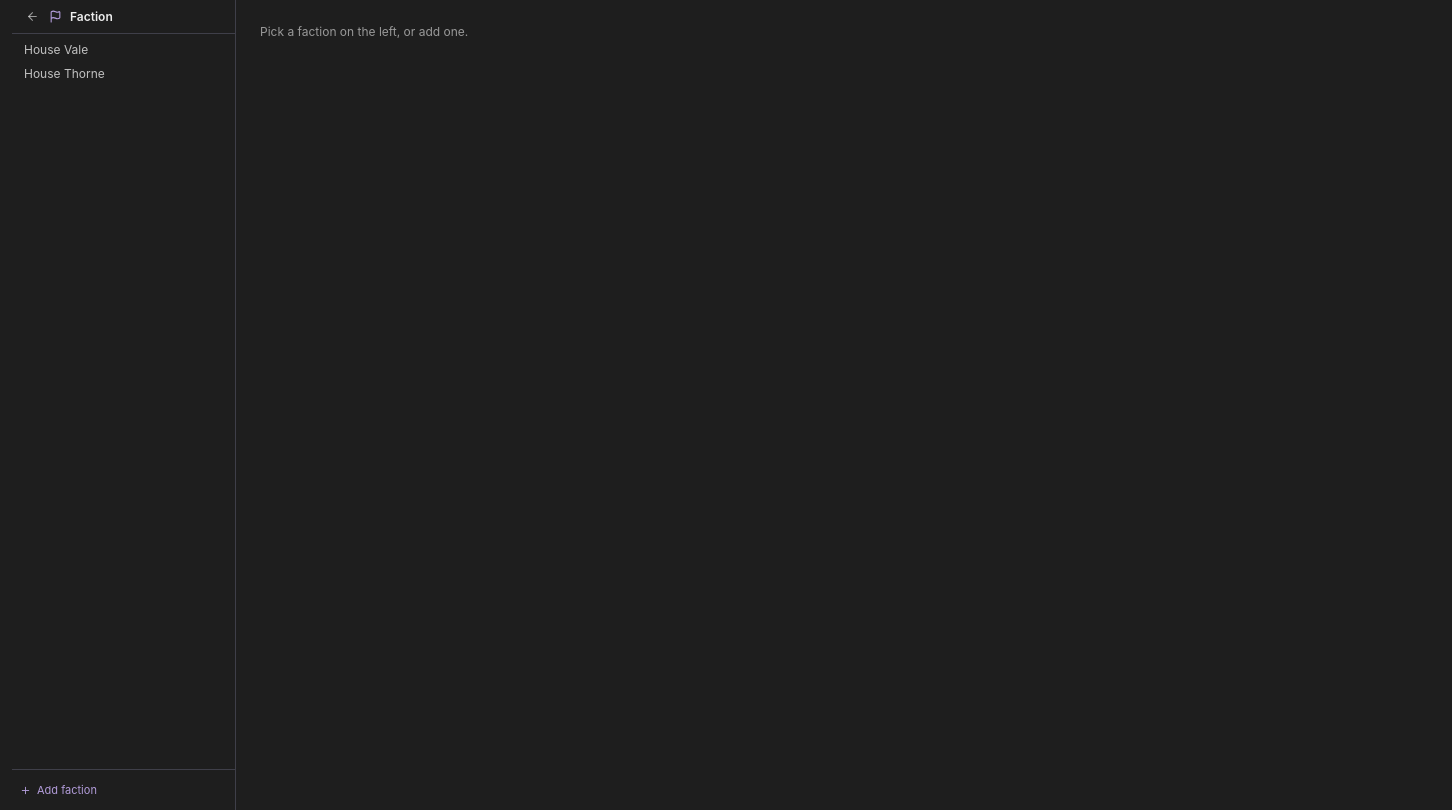
saved means saved › says out loud that there are unsaved changes
The image size is (1452, 810).
Expected: the element with test id "thread-editor" is shown, x1=12 y1=0 x2=468 y2=809
Click the button "House Vale".
click(124, 50)  # box x1=12 y1=38 x2=235 y2=62
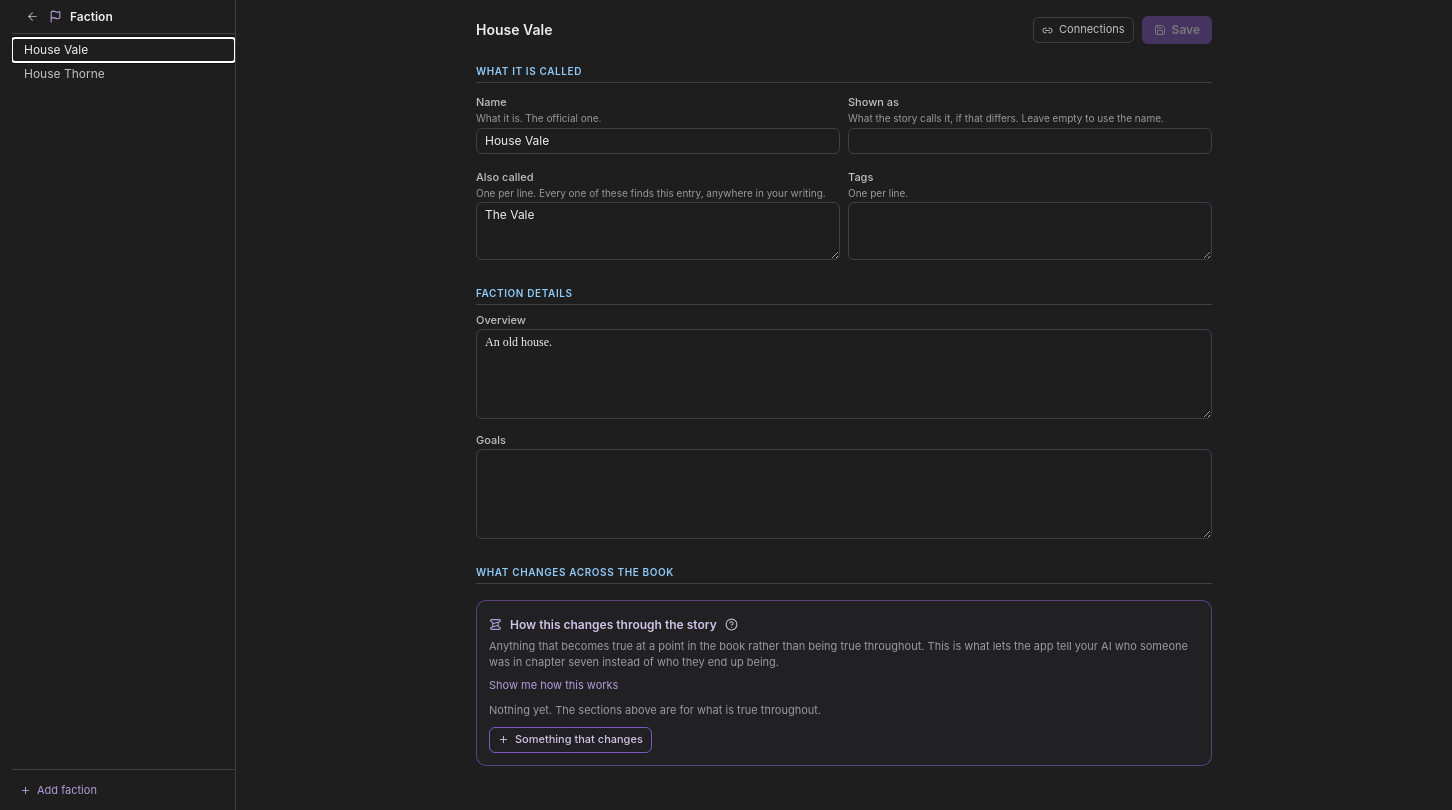
Expected: the field labelled "Name" is shown, x1=476 y1=128 x2=840 y2=154
Type "Hold the pass." into the text box labelled "Goals".
click(844, 494); type("Hold the pass.")  # box x1=476 y1=449 x2=1212 y2=539
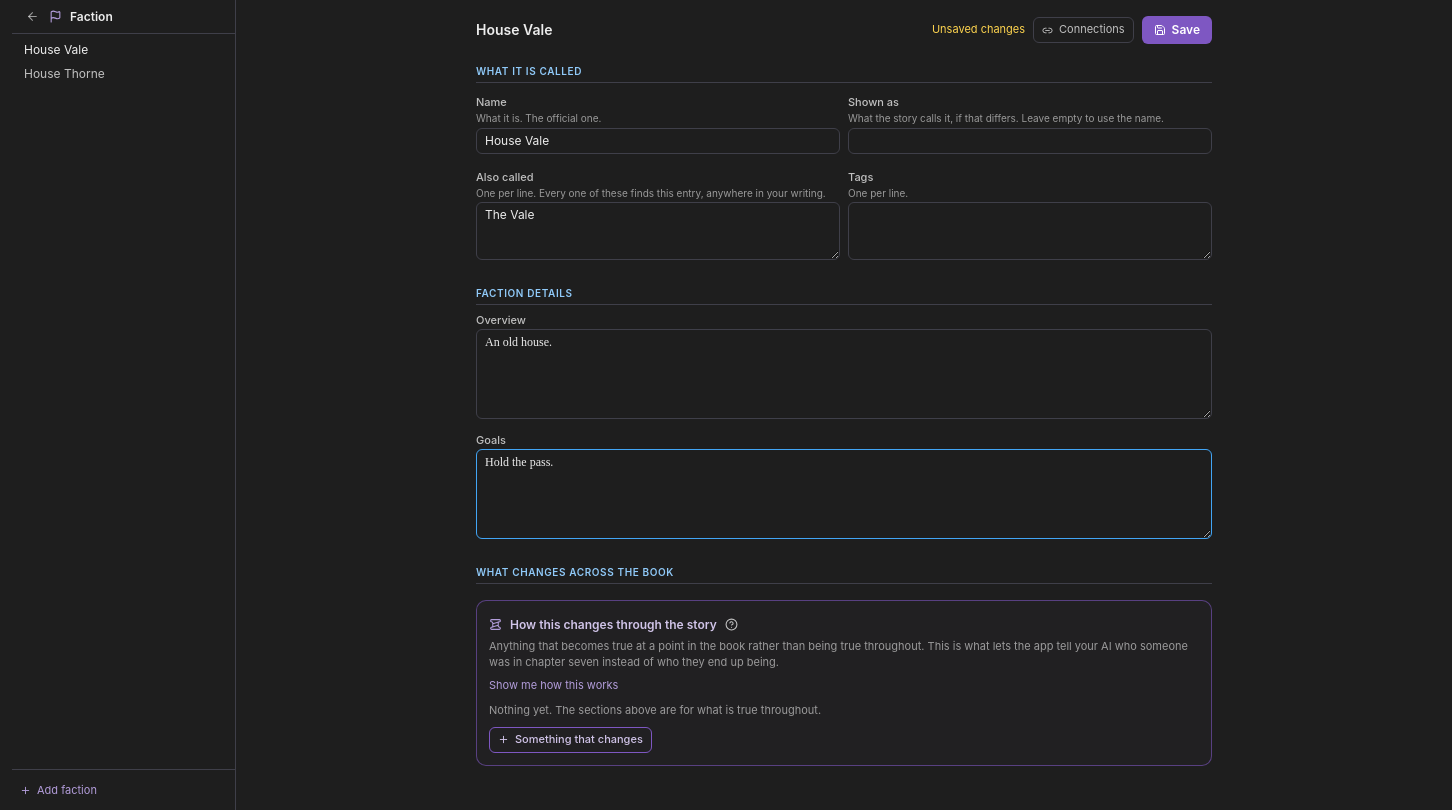
Expected: the text "Unsaved changes" is shown, x1=932 y1=22 x2=1025 y2=38
